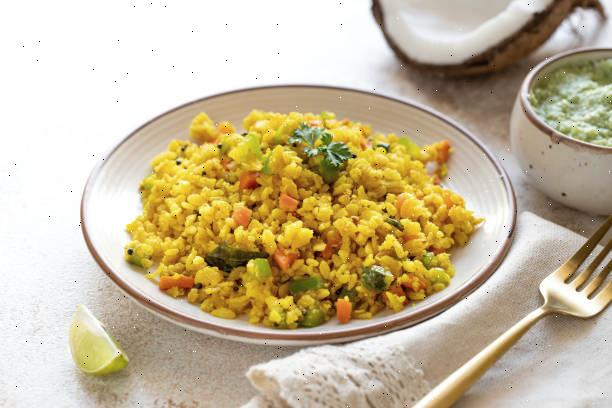coconut chutney: (519, 57, 612, 160)
poha: (128, 116, 474, 335)
